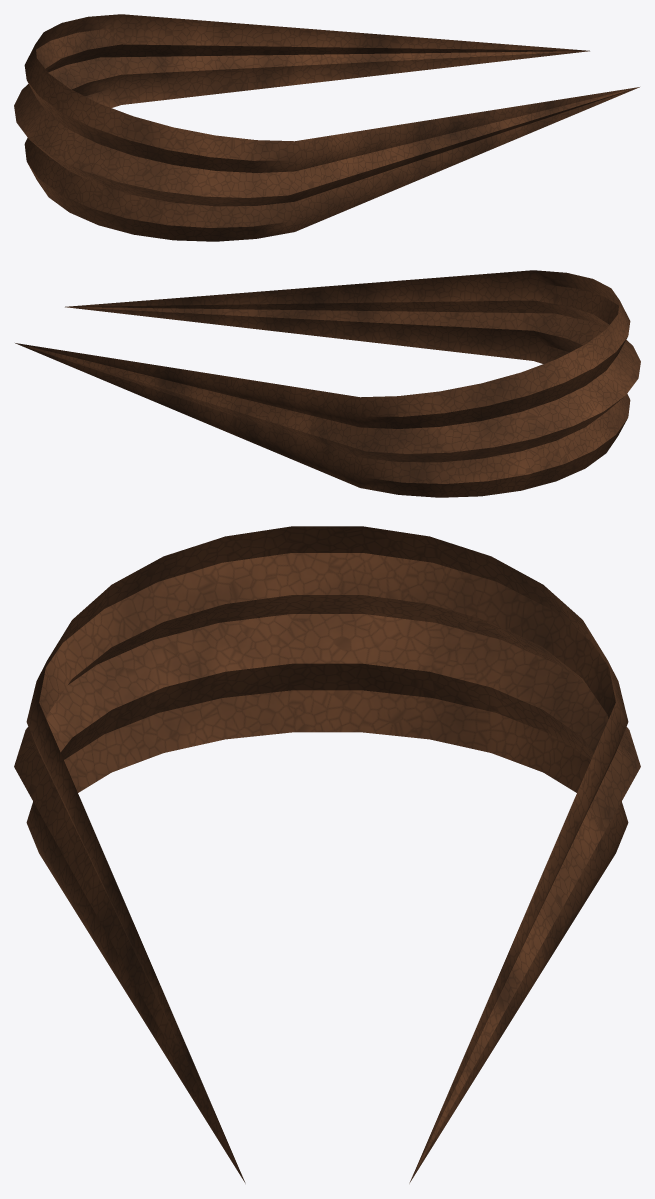
Rendered from SM_Bellows_Leather.glb.
3 renders of one model, top to bottom at view 1: azimuth 30°, elevation 25°; view 2: azimuth 150°, elevation 25°; view 3: azimuth 270°, elevation 25°, orthographic. The views are drawn at different scales.
Visible parts, largest first — view 1: SM_Bellows_Leather; view 2: SM_Bellows_Leather; view 3: SM_Bellows_Leather.
Boxes of the visible parts, x1,y1,x2,y2 form: SM_Bellows_Leather: [14, 14, 639, 241]; SM_Bellows_Leather: [15, 270, 640, 497]; SM_Bellows_Leather: [14, 526, 640, 1183].
Bounding box in the file's own units: 1.5 × 0.3076 × 0.8478.
1 material, 1 textured.
